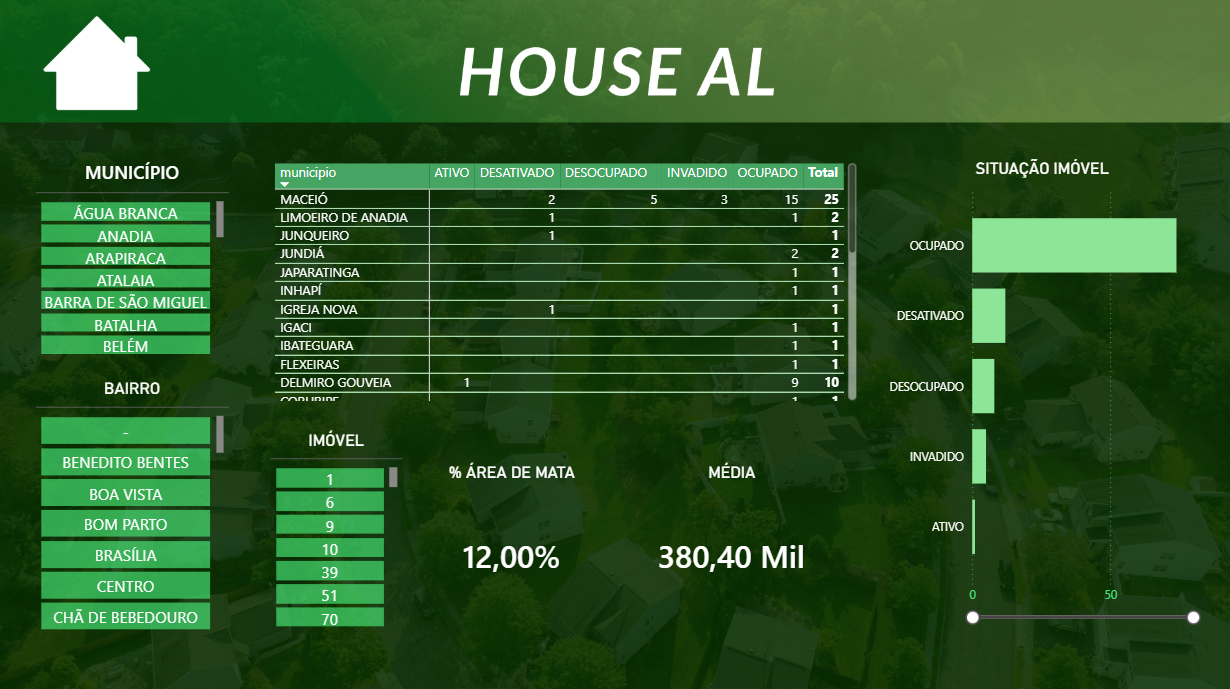

Layout of this report page (visuals, bound fields, positions):
{"tool":"powerbi","page":{"name":"Página 1","canvas":[1280,720],"ordinal":0},"visuals":[{"type":"pivotTable","fields":{"Rows":["dim_municipio.municipio"],"Columns":["dim_situacao.situacao_ocupacao"],"Values":["CountNonNull(fato.id_situacao)"]},"box":[281.1,166.7,612.2,254.4],"z":0},{"type":"cardVisual","title":"% ÁREA DE MATA","fields":{"Data":["fato.% Dossiês Área de Terra"]},"box":[437.8,481.1,186.7,171.1],"z":1000},{"type":"listSlicer","title":"MUNICÍPIO","fields":{"Values":["fato.municipio"]},"box":[37.8,166.7,200,212.2],"z":2000},{"type":"listSlicer","title":"BAIRRO","fields":{"Values":["fato.bairro"]},"box":[37.8,394.4,200,265.6],"z":4000},{"type":"listSlicer","title":"IMÓVEL","fields":{"Values":["fato.numero_dossie"]},"box":[281.1,447.8,136.7,212.2],"z":5000},{"type":"cardVisual","title":"MÉDIA","fields":{"Data":["fato.Media"]},"box":[624.4,481.1,268.9,171.1],"z":6000},{"type":"barChart","title":"SITUAÇÃO IMÓVEL","fields":{"Category":["dim_situacao.situacao_ocupacao"],"Y":["CountNonNull(fato.denominacao)"]},"box":[912.2,166.7,336.7,485.6],"z":7000}]}

Visuals, with their boxes in screenshot pixels (x1, y1, x2, y2), scaled from the page's 1280x720 canvas onto the 1230x689 screenshot:
pivotTable - dim_municipio.municipio x dim_situacao.situacao_ocupacao: bbox=(270, 160, 858, 403)
"% ÁREA DE MATA" cardVisual: bbox=(421, 460, 600, 624)
"MUNICÍPIO" listSlicer: bbox=(36, 160, 229, 363)
"BAIRRO" listSlicer: bbox=(36, 377, 229, 632)
"IMÓVEL" listSlicer: bbox=(270, 429, 401, 632)
"MÉDIA" cardVisual: bbox=(600, 460, 858, 624)
"SITUAÇÃO IMÓVEL" barChart: bbox=(877, 160, 1200, 624)
